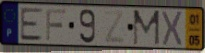9: (79, 9, 97, 45)
E: (19, 7, 45, 43)
F: (45, 7, 68, 42)
M: (132, 9, 161, 47)
X: (161, 10, 184, 48)
Z: (102, 9, 127, 45)
